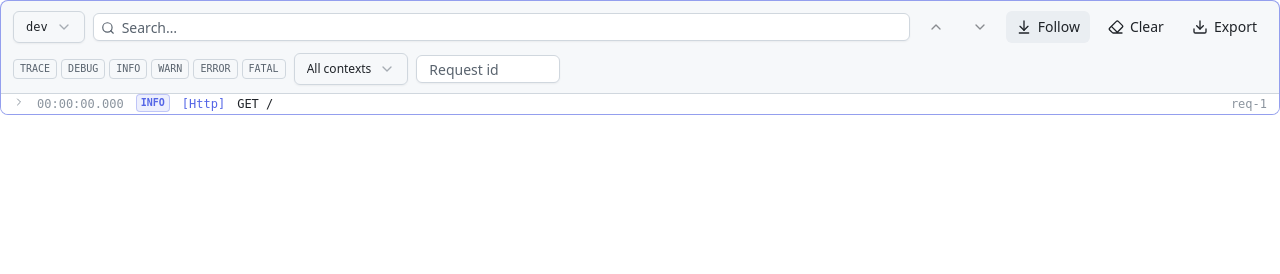
LogPane › renders structured rows and expands them
Check: the text "GET /" is shown, box [237,97,273,111]
Check: the text "info" is shown, box [136,94,170,112]
Click the button named "Expand entry". click: (19, 102)
box: [13,96,25,108]
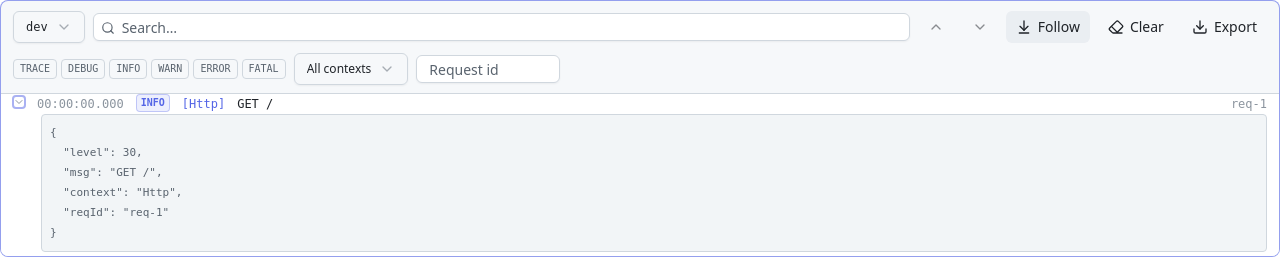
Check: the button named "Collapse entry" is expanded, box [13,96,25,108]
Check: the text "\"reqId\": \"req-1\"" is shown, box [50,126,182,239]
